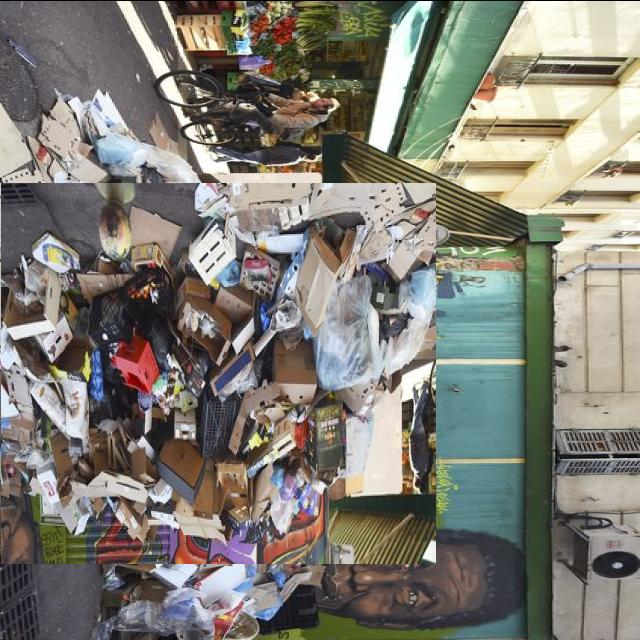garbage: (0, 160, 415, 586)
